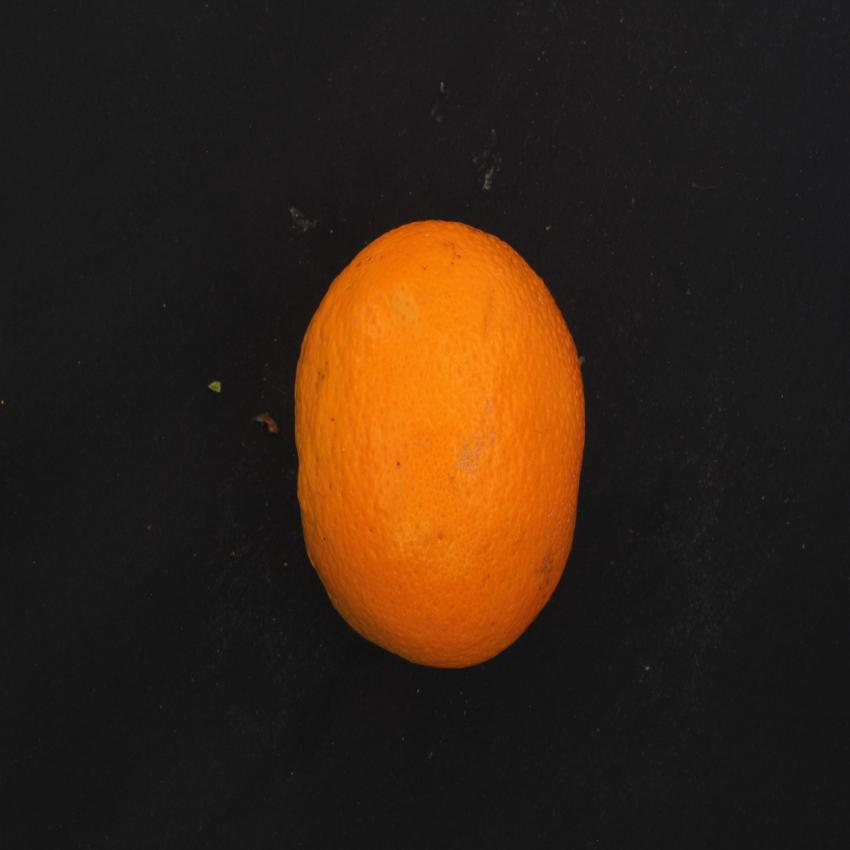Buen estado: (253, 206, 593, 682)
